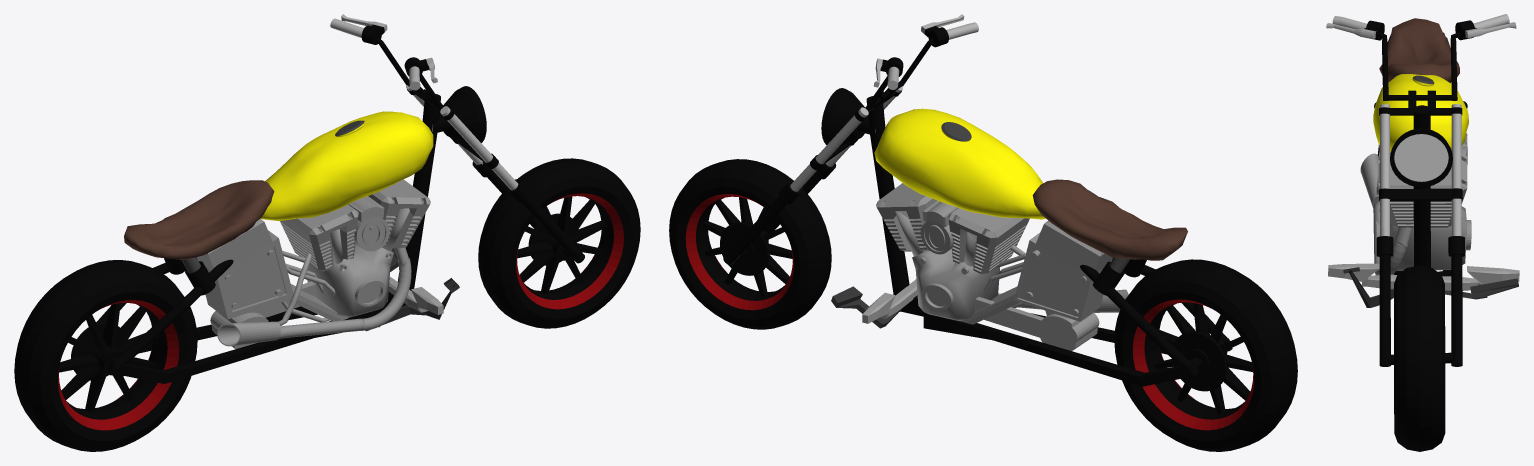
The picture shows the model from 3 angles, left to right: view 1: azimuth 30°, elevation 25°; view 2: azimuth 150°, elevation 25°; view 3: azimuth 270°, elevation 25°; orthographic projection. The views are drawn at different scales.
Visible parts, largest first — view 1: Rare Tire, Engine, Front Tire, Tank, Seat, Chasy, Head, Egsosts.001, Handele, Egsosts, Leg Rests; view 2: Rare Tire, Engine, Front Tire, Tank, Seat, Chasy, Head, Handele, Leg Rests, Gear Shifter, 11..._Chasy_0; view 3: Head, Front Tire, Engine, Seat, Tank, Handele, Leg Rests, Chasy, Egsosts.001, Gear Shifter, Break, Egsosts.
Boxes of the visible parts, x1=… form: Rare Tire: x1=14, y1=260, x2=197, y2=451; Engine: x1=197, y1=179, x2=430, y2=349; Front Tire: x1=478, y1=158, x2=640, y2=328; Tank: x1=260, y1=111, x2=433, y2=220; Seat: x1=124, y1=180, x2=274, y2=295; Chasy: x1=96, y1=94, x2=440, y2=383; Head: x1=406, y1=85, x2=584, y2=263; Egsosts.001: x1=217, y1=247, x2=408, y2=346; Handele: x1=330, y1=14, x2=443, y2=109; Egsosts: x1=358, y1=258, x2=411, y2=330; Leg Rests: x1=388, y1=276, x2=443, y2=314; Rare Tire: x1=1114, y1=259, x2=1297, y2=451; Engine: x1=876, y1=183, x2=1112, y2=350; Front Tire: x1=669, y1=159, x2=831, y2=329; Tank: x1=874, y1=108, x2=1045, y2=219; Seat: x1=1032, y1=179, x2=1187, y2=295; Chasy: x1=866, y1=96, x2=1232, y2=386; Head: x1=723, y1=86, x2=902, y2=264; Handele: x1=866, y1=14, x2=978, y2=110; Leg Rests: x1=862, y1=279, x2=917, y2=323; Gear Shifter: x1=831, y1=286, x2=904, y2=328; 11..._Chasy_0: x1=957, y1=322, x2=1028, y2=347; Head: x1=1376, y1=90, x2=1464, y2=366; Front Tire: x1=1390, y1=265, x2=1453, y2=451; Engine: x1=1376, y1=133, x2=1471, y2=270; Seat: x1=1379, y1=18, x2=1459, y2=83; Tank: x1=1373, y1=74, x2=1468, y2=152; Handele: x1=1326, y1=14, x2=1516, y2=100; Leg Rests: x1=1328, y1=263, x2=1519, y2=290; Chasy: x1=1374, y1=101, x2=1467, y2=276; Egsosts.001: x1=1360, y1=153, x2=1412, y2=261; Gear Shifter: x1=1445, y1=278, x2=1518, y2=299; Break: x1=1343, y1=267, x2=1393, y2=307; Egsosts: x1=1374, y1=241, x2=1407, y2=275.
Size of the model in its own units: 13.54 by 6.96 by 3.5.
